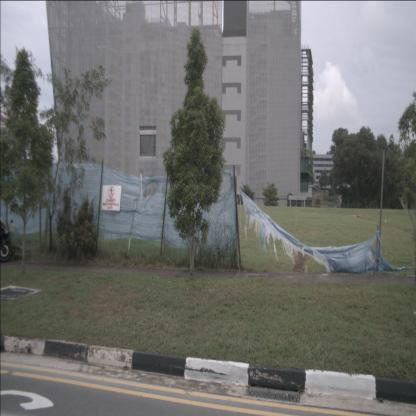vehicle-motorcycle: (0, 218, 14, 262)
